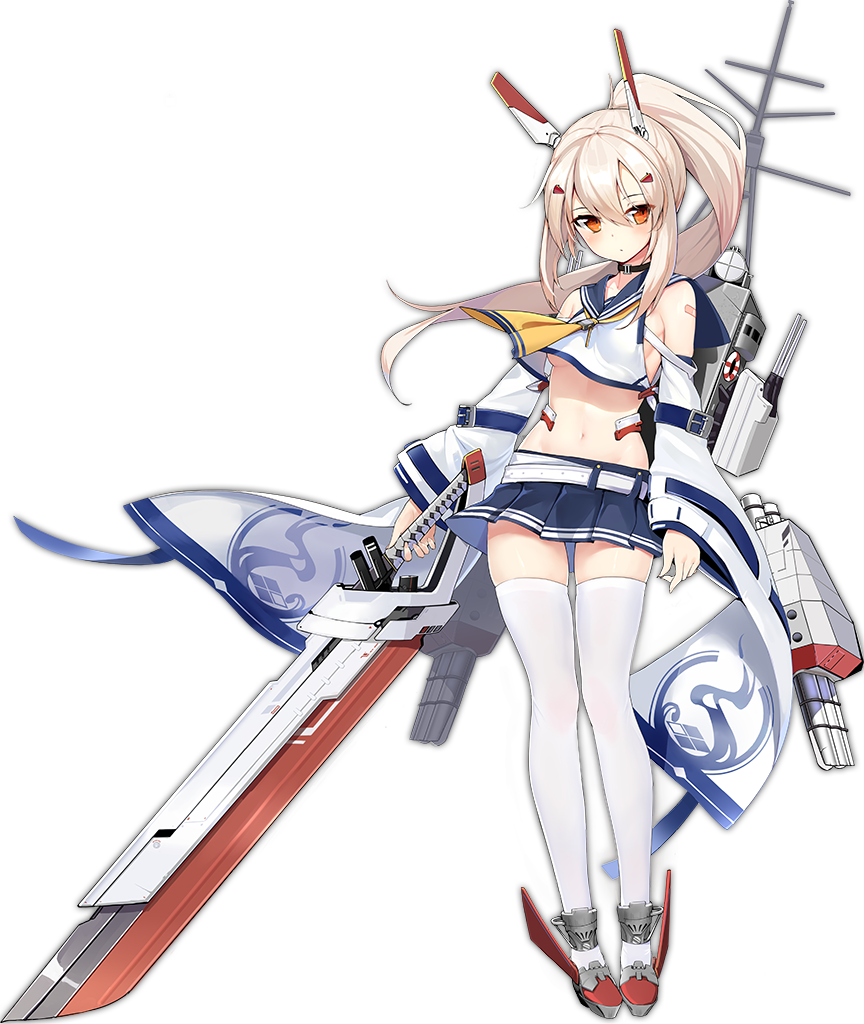person: (276, 95, 827, 778)
